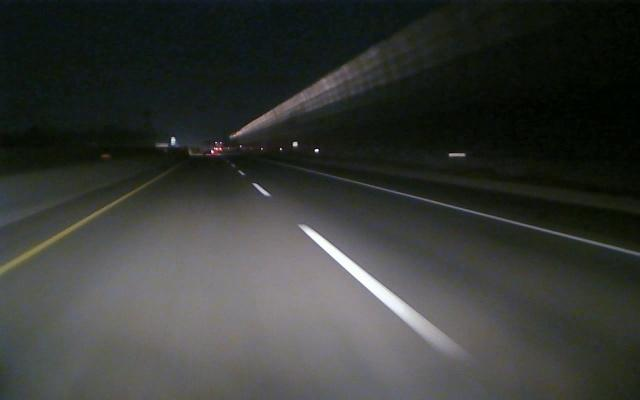lane: (252, 183, 469, 362), (331, 176, 639, 258), (1, 192, 131, 275)
